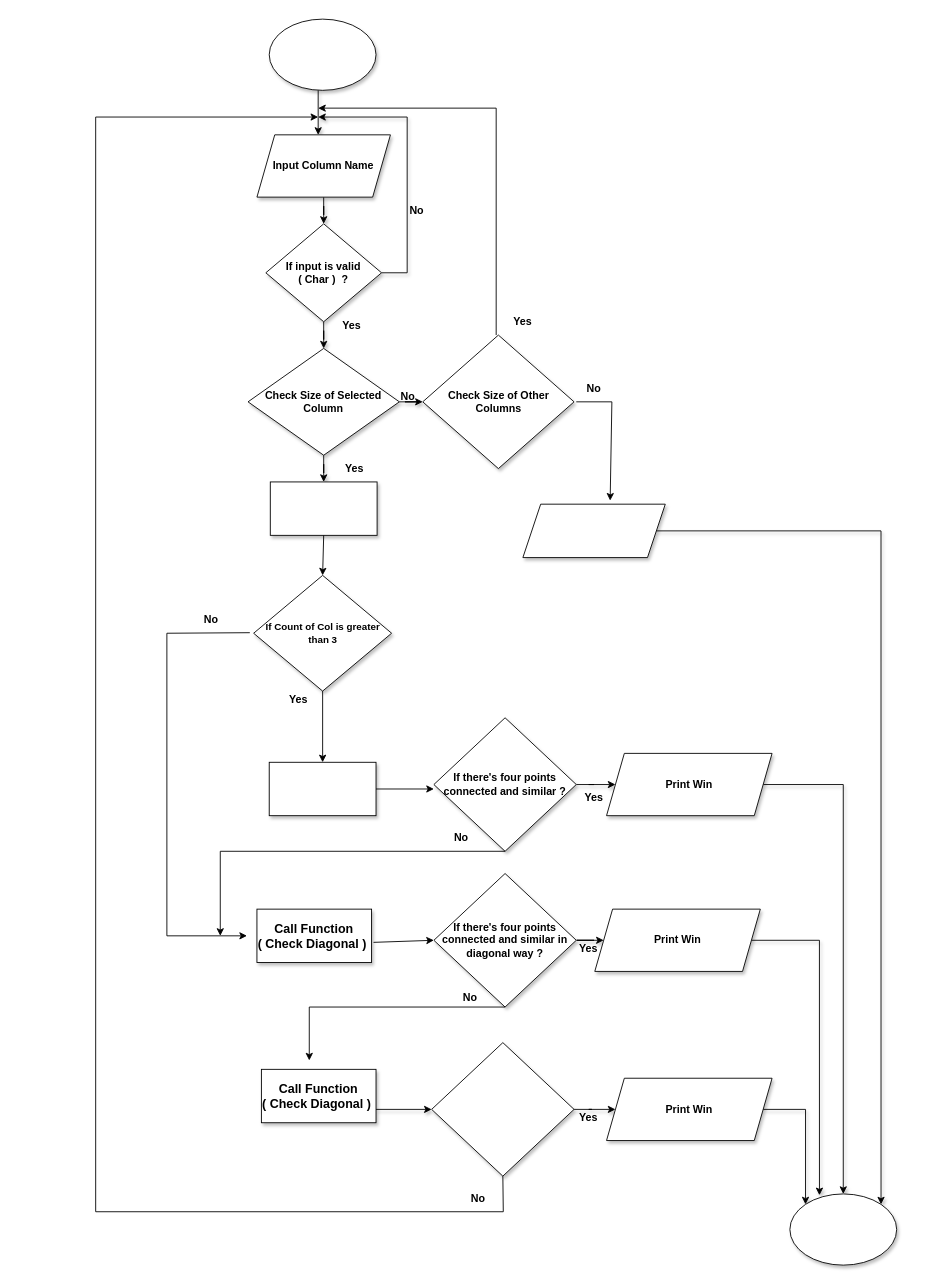
The diagram is 949 pixels wide and 1287 high, and some of its shapes have lost their labels. The shapes that lost their labels are listed below. From the top down, each one's centre as x and y in pixels, then its label:
At point (323, 56): "Start".
At point (324, 509): "Push Data into Array".
At point (594, 532): "Print Game Complete".
At point (323, 790): "Call Function (Check Vertical )".
At point (503, 1110): "If there's four points connected and similar in Horizontal way ?".
At point (843, 1230): "Finish".
